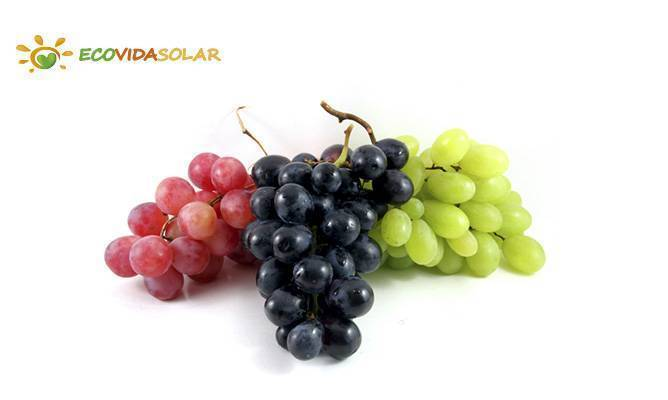Black grapes: (266, 158, 365, 354)
Green grapes: (416, 145, 533, 263)
Red Grapes: (113, 160, 258, 282)
